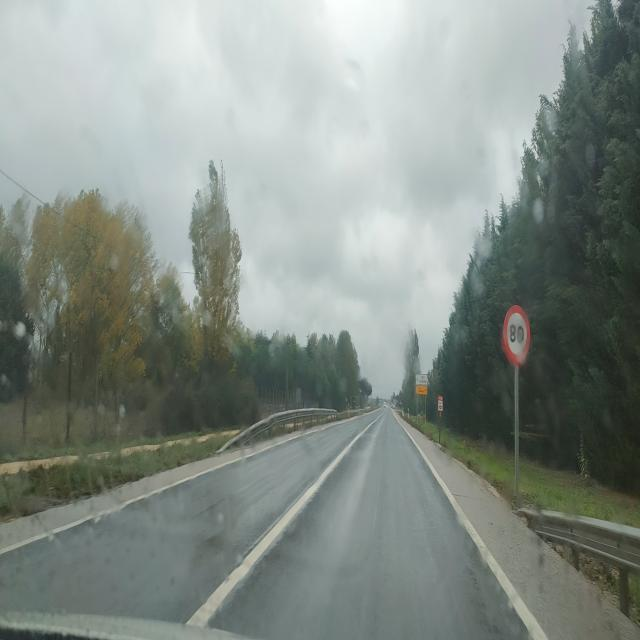Poth-hole: (458, 560, 503, 640)
